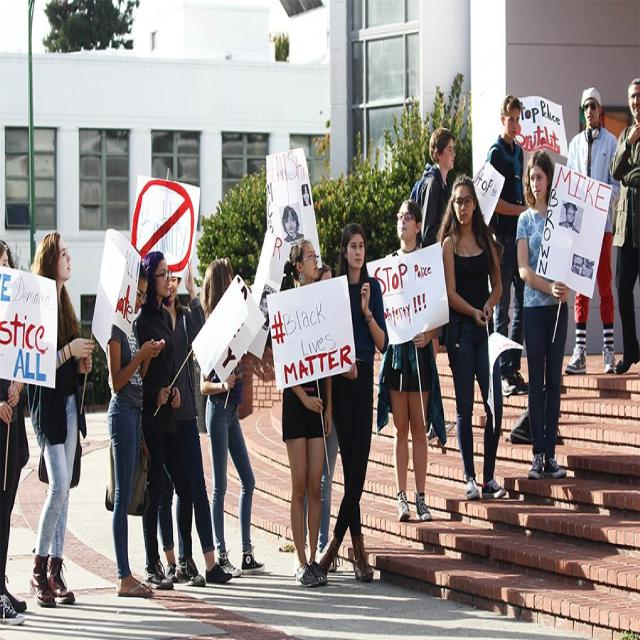body: (23, 230, 99, 614), (314, 222, 389, 585), (134, 248, 212, 596), (156, 257, 234, 588), (438, 170, 511, 506), (198, 254, 268, 580), (280, 233, 339, 589), (104, 260, 166, 598), (385, 195, 442, 528), (515, 149, 572, 481), (559, 84, 621, 378), (408, 127, 457, 446), (483, 93, 532, 396), (302, 260, 341, 570), (0, 240, 26, 626), (608, 70, 639, 375), (279, 204, 304, 240), (560, 198, 578, 232), (296, 182, 311, 206)
